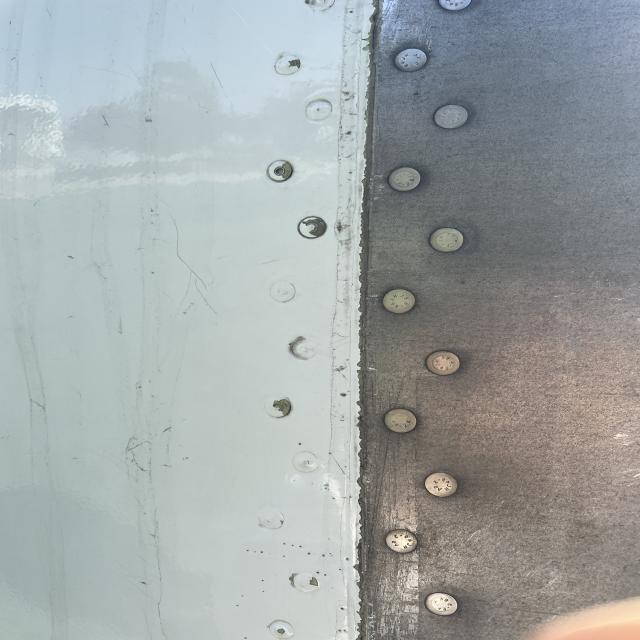crack: (163, 226, 231, 327), (116, 440, 174, 473)
